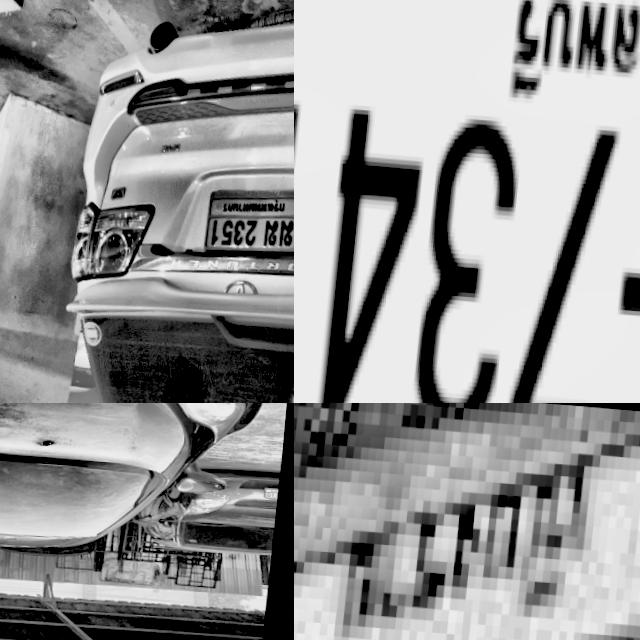license-plate: (294, 0, 640, 403), (294, 403, 640, 640), (206, 181, 294, 252)
